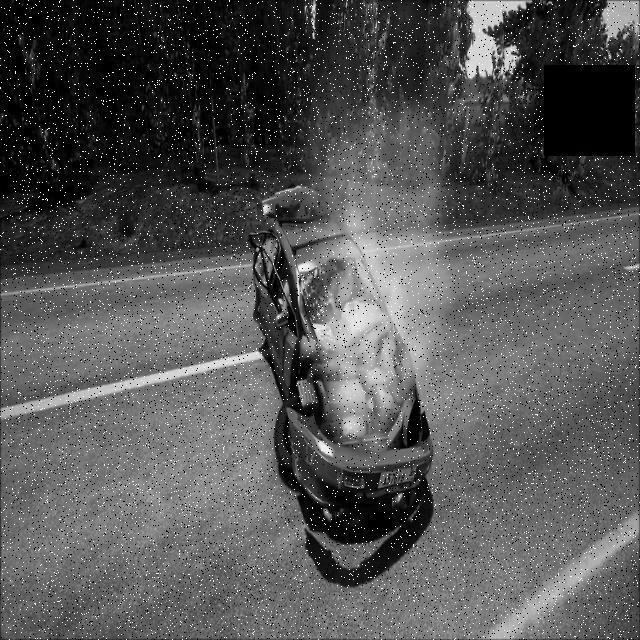accident: (247, 181, 437, 531)
